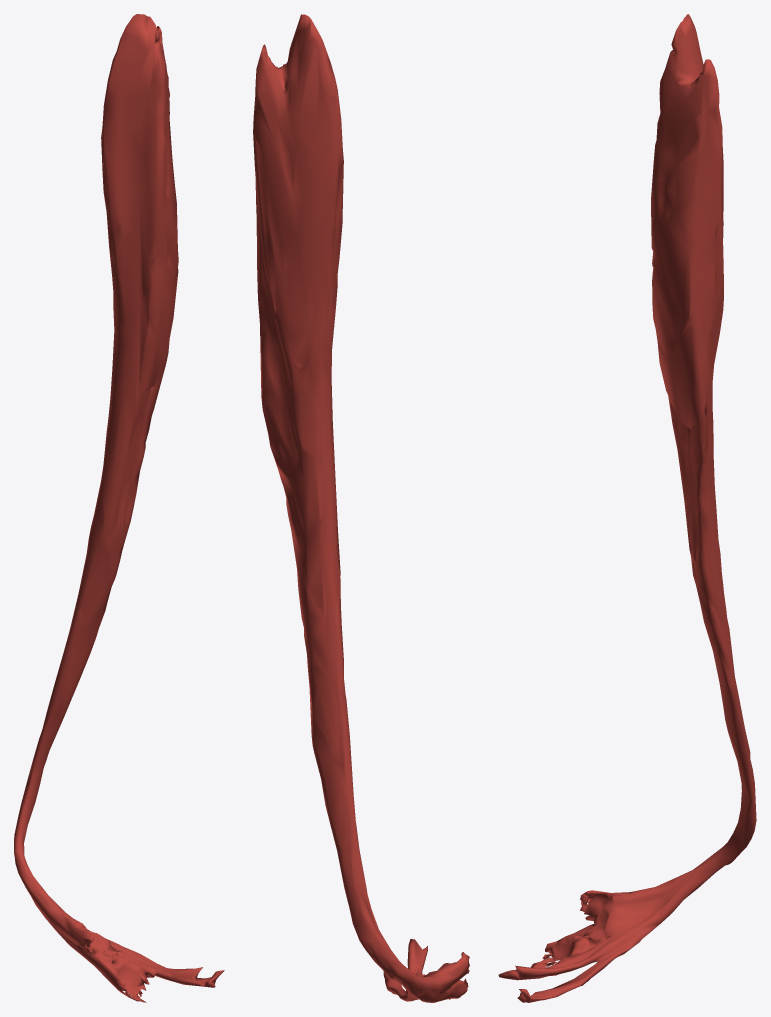
Rendered from musculos-tibialis-posterior-muscle-l.glb.
The picture shows the model from 3 angles, left to right: view 1: azimuth 30°, elevation 25°; view 2: azimuth 150°, elevation 25°; view 3: azimuth 270°, elevation 25°; orthographic projection. The views are drawn at different scales.
Parts seen in each view (by area): view 1: Tibialis posterior muscle.l; view 2: Tibialis posterior muscle.l; view 3: Tibialis posterior muscle.l.
Boxes of the visible parts, x1,y1,x2,y2 form: Tibialis posterior muscle.l: (14, 14, 224, 1002); Tibialis posterior muscle.l: (253, 14, 469, 1002); Tibialis posterior muscle.l: (498, 14, 756, 1002).
Size of the model in its own units: 0.0589 by 0.3438 by 0.0812.
